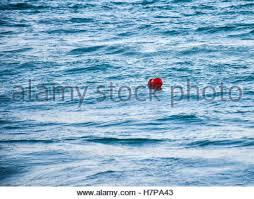buoy: (148, 78, 163, 88)
